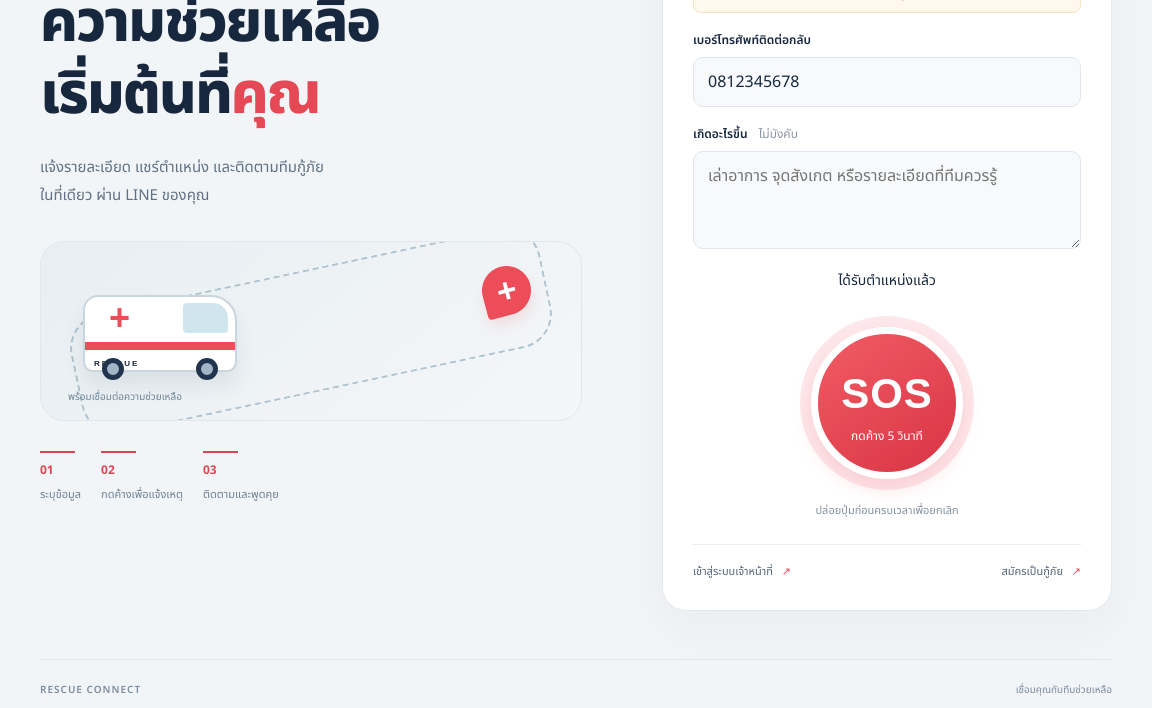
Test case: citizen SOS location › requires a new hold if the position expires and is reacquired
This screenshot has width=1152, height=708.
(page scrolled)
Press Enter in the button with class "sos-trigger", box [811,327,963,479]
Wait 2000 ms
(page scrolled)
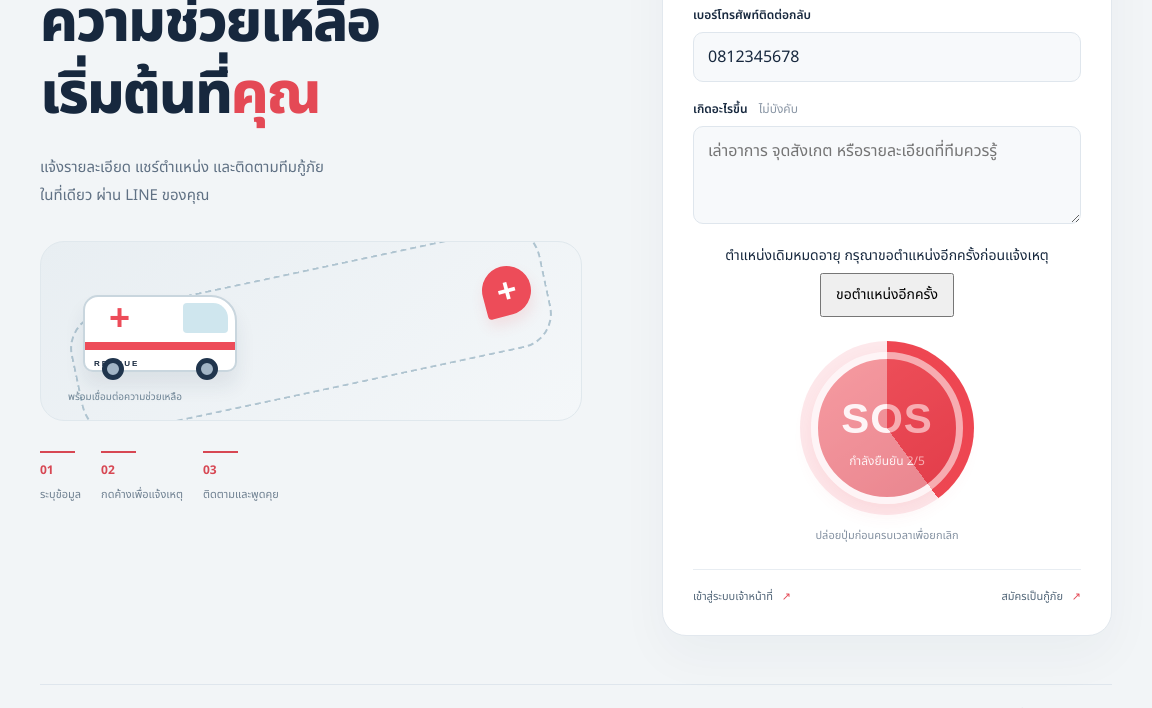
Expected: the button with class "sos-trigger" is disabled, [811,352,963,504]
Click the button "ขอตำแหน่งอีกครั้ง" at (887, 295), box [820,273,954,317]
Wait 5000 ms
(page scrolled)
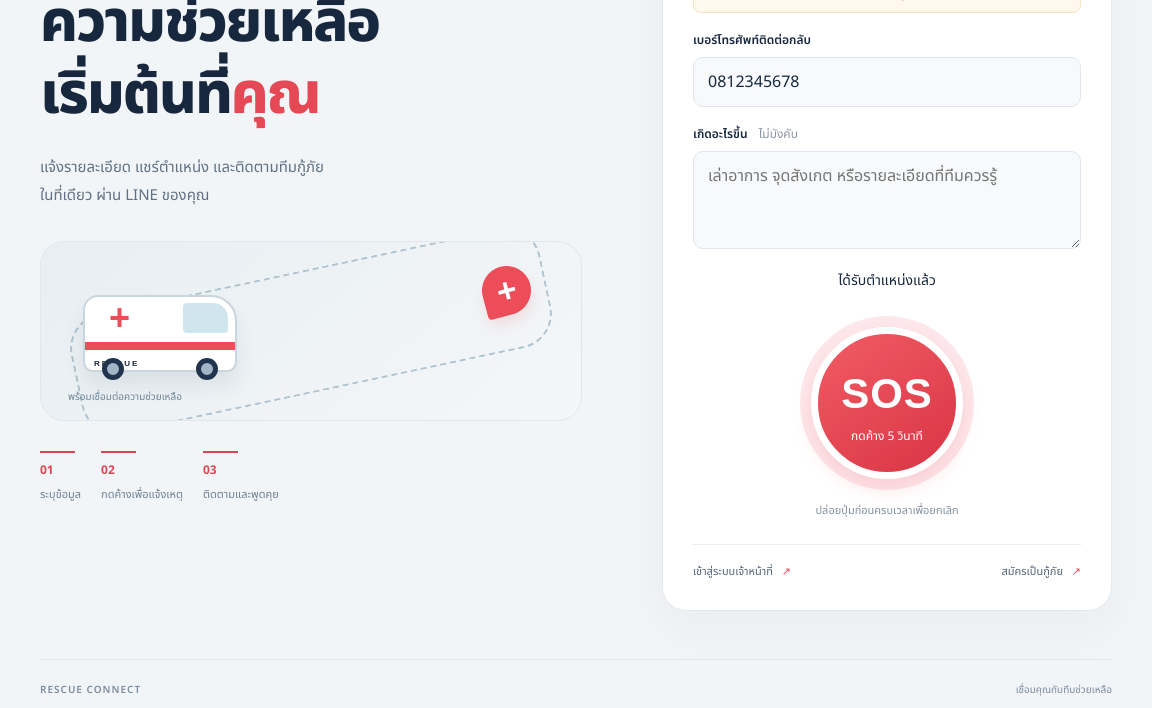
Expected: the button "SOS กดค้าง 5 วินาที" is enabled, [811,327,963,479]
